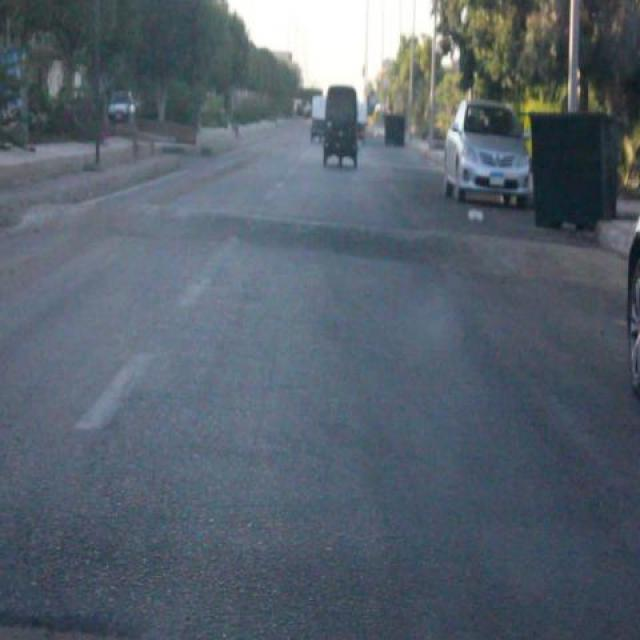Unmarked Bump: (19, 198, 628, 290)
